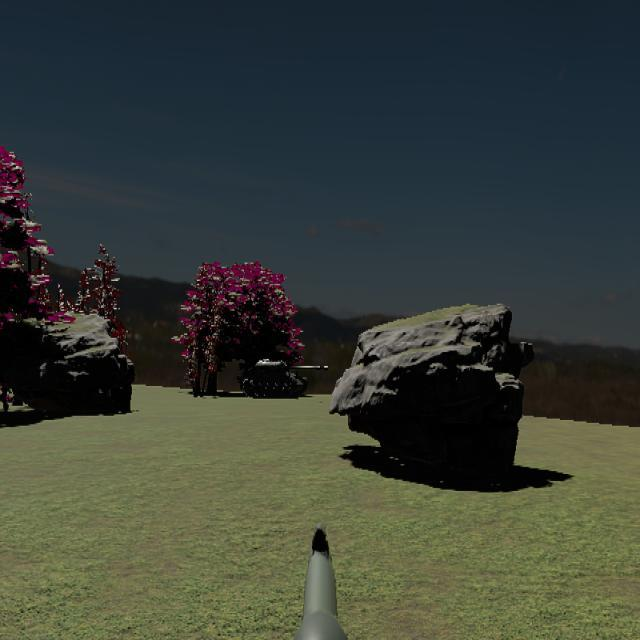Tank: (237, 356, 328, 399)
